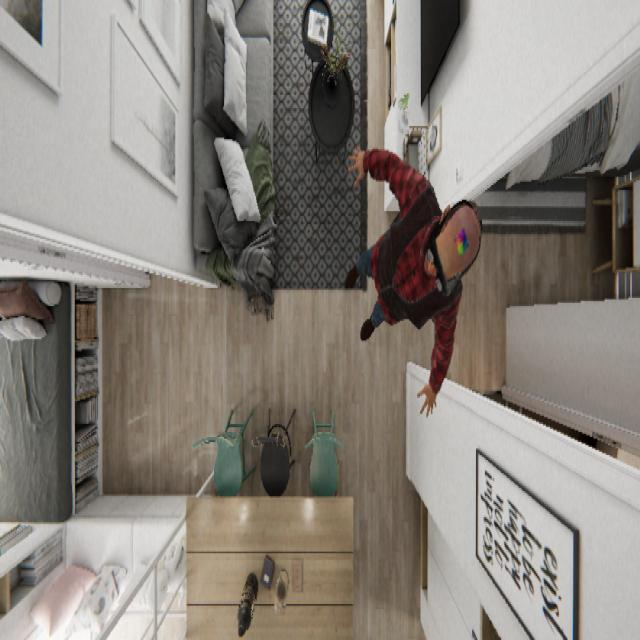Colored-Marker: (453, 222, 470, 258)
Human: (343, 142, 482, 418)
